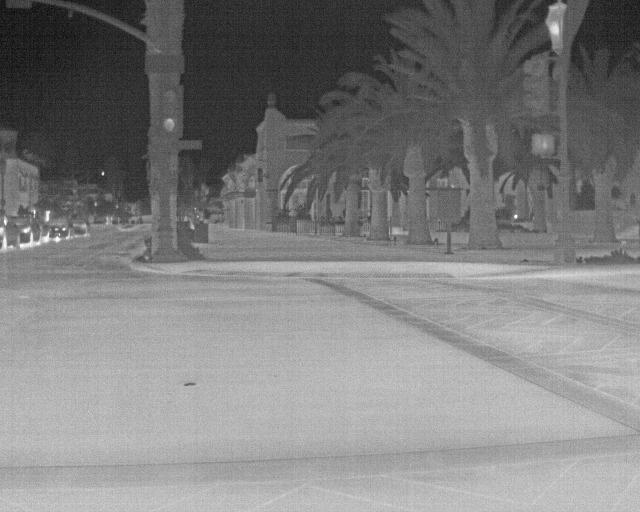car: (20, 213, 48, 242), (1, 214, 22, 250), (47, 218, 70, 240), (73, 220, 90, 237)
